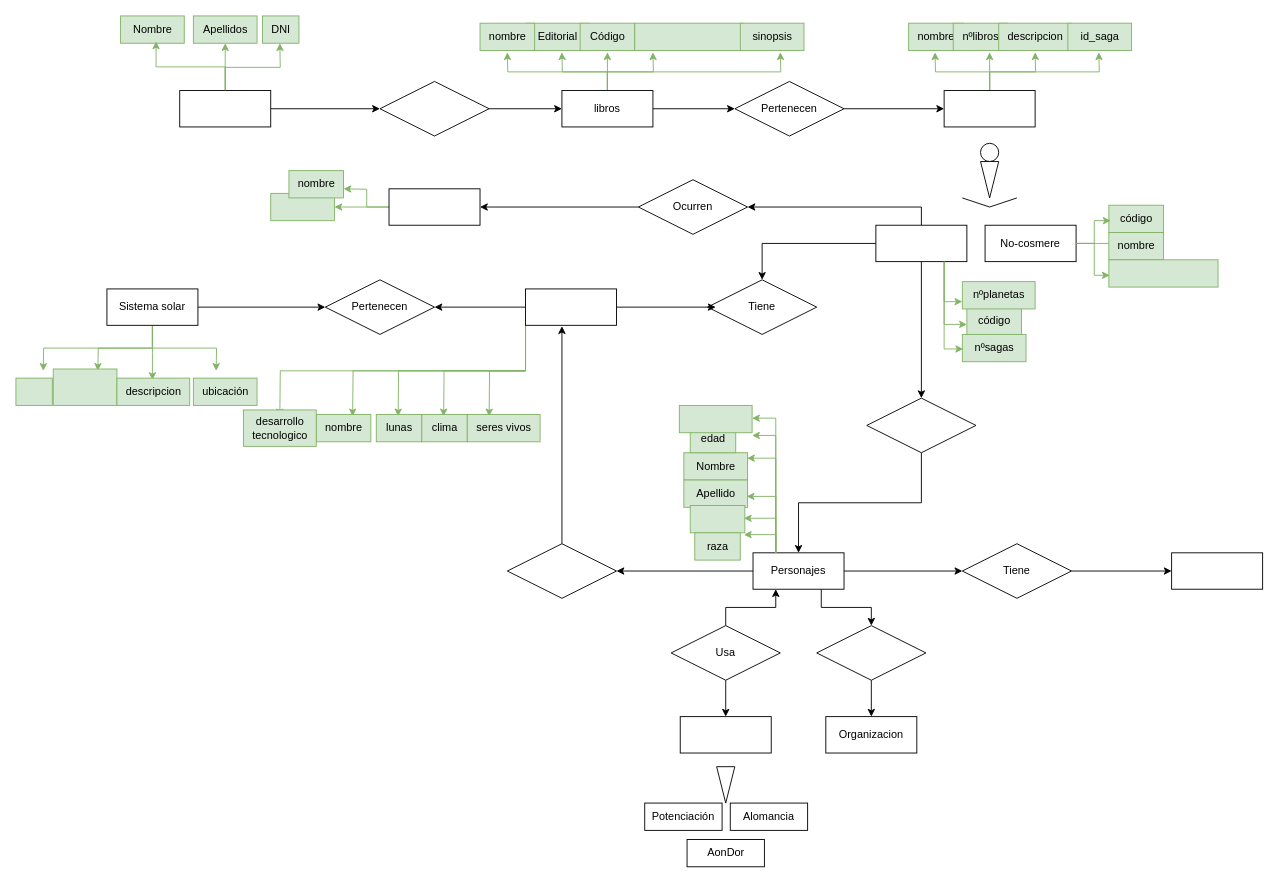
Some shapes in this 1279 by 883 pixel diagram are drawn without their labels. Each missing label, with the box of its shape:
Autor: (179, 90, 271, 127)
Cosmere: (875, 224, 967, 262)
cultura: (689, 505, 745, 533)
duración: (270, 192, 334, 221)
Eras temporales: (388, 188, 480, 225)
escribe: (379, 81, 489, 136)
Existe: (866, 397, 976, 453)
fecha creación: (52, 368, 117, 405)
fecha_publicacion: (634, 22, 744, 51)
fecha_publicación: (1108, 259, 1218, 287)
habilidades: (678, 404, 752, 433)
ID: (15, 377, 52, 405)
Pertenece: (816, 625, 926, 680)
Planetas: (525, 288, 617, 325)
Sagas: (943, 90, 1035, 127)
Sistema de magia: (679, 716, 771, 753)
Traumas: (1171, 552, 1263, 589)
Viven: (506, 543, 617, 598)
